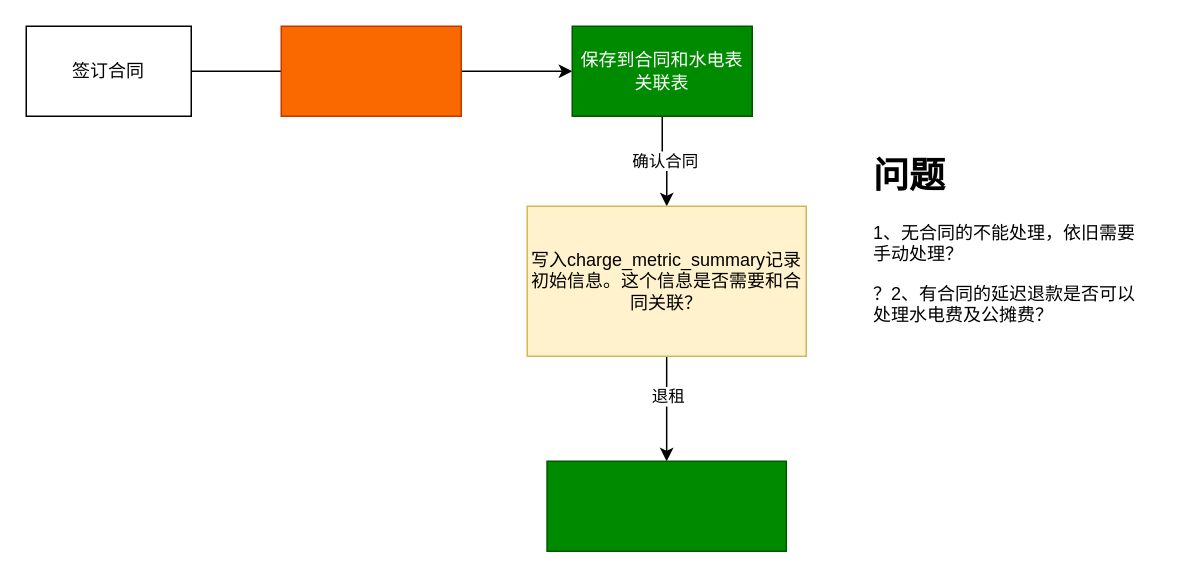
Image size: 1178x578. Some labels were removed from this diagram. The shapes that lost their labels are listed below. From the top down, each one's box as (x1, y1, x2, y2) in pixels, then its label:
(280, 25, 461, 116): 实时读取或者手动输入水电表读数，可能和时间不符
(546, 460, 786, 551): 记录实际退租更新合同与水电关联表
